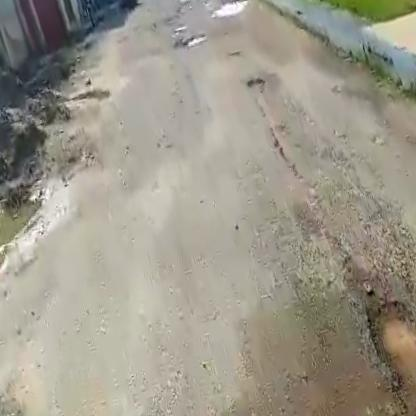pothole: (360, 288, 416, 395), (208, 0, 259, 23), (179, 31, 210, 53)
